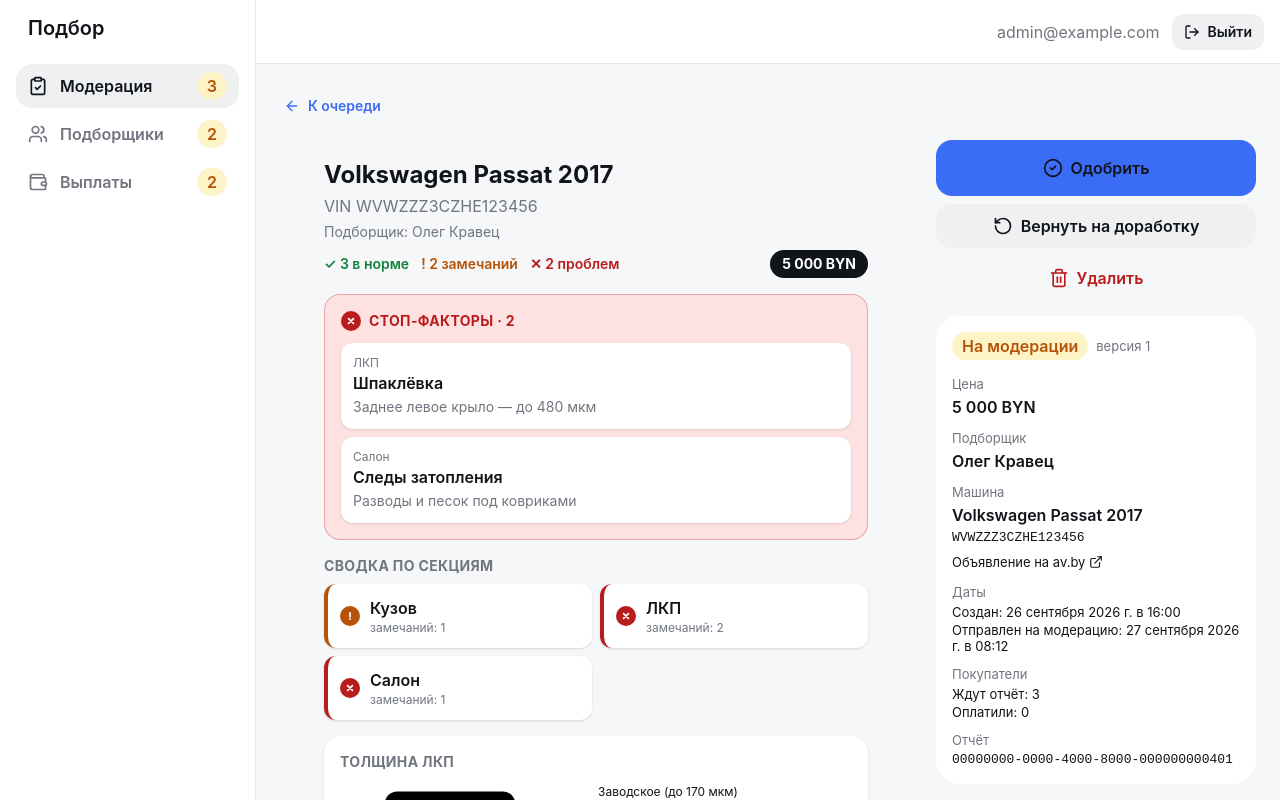
Test: вернуть на доработку › пустая и короткая причина → кнопка неактивна, запрос не уходит
Click the button "Вернуть на доработку".
click(1096, 226)  # box [936,204,1256,248]
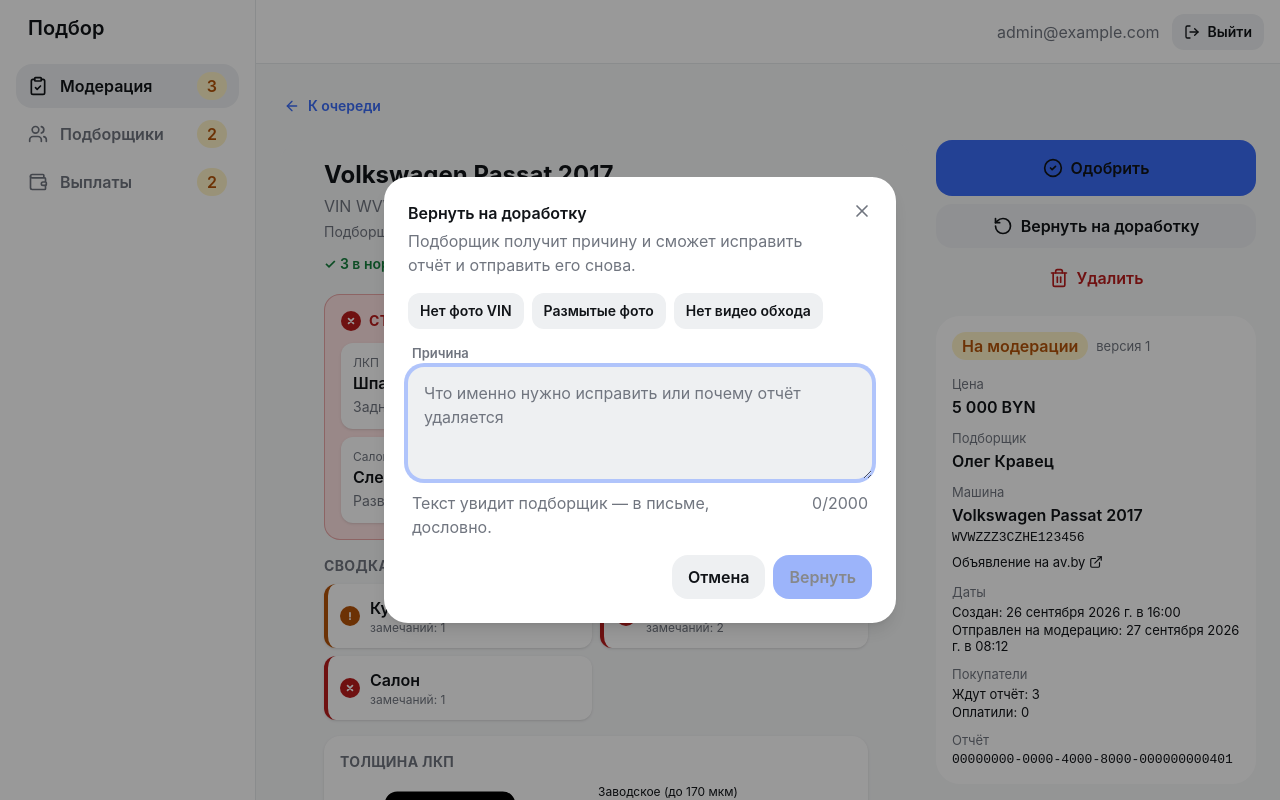
Check: the button "Вернуть" is disabled, box [774,555,872,599]
Type "коротко" into the text box labelled "Причина".
click(640, 423); type("коротко")  # box [408,367,872,479]
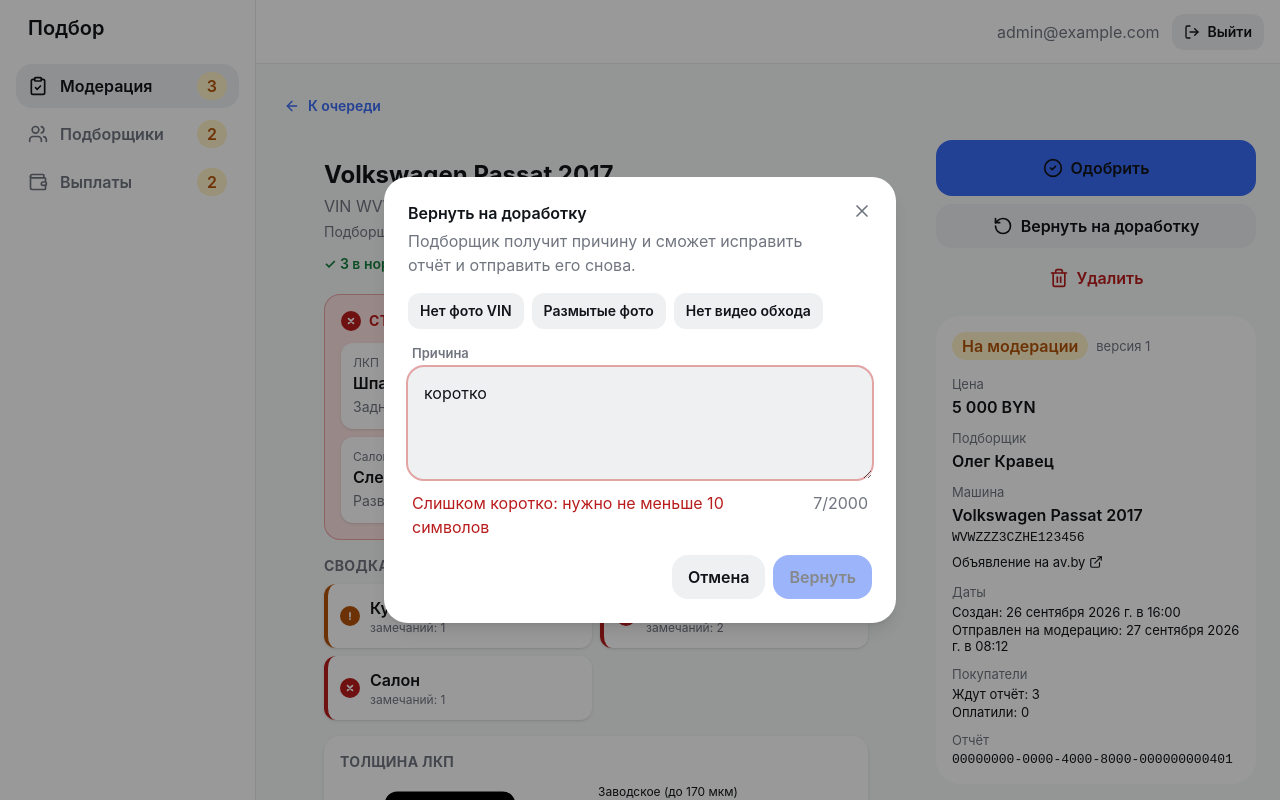
Check: the button "Вернуть" is disabled, box [774,555,872,599]
Check: the text "Слишком коротко: нужно не меньше 10 символов" is shown, box [412,493,724,537]
